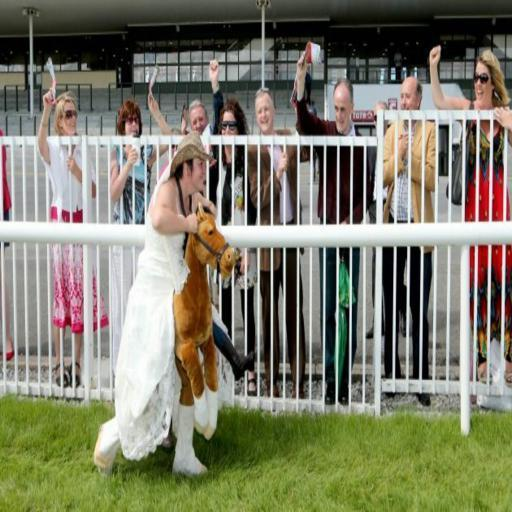horse: (171, 200, 235, 476)
